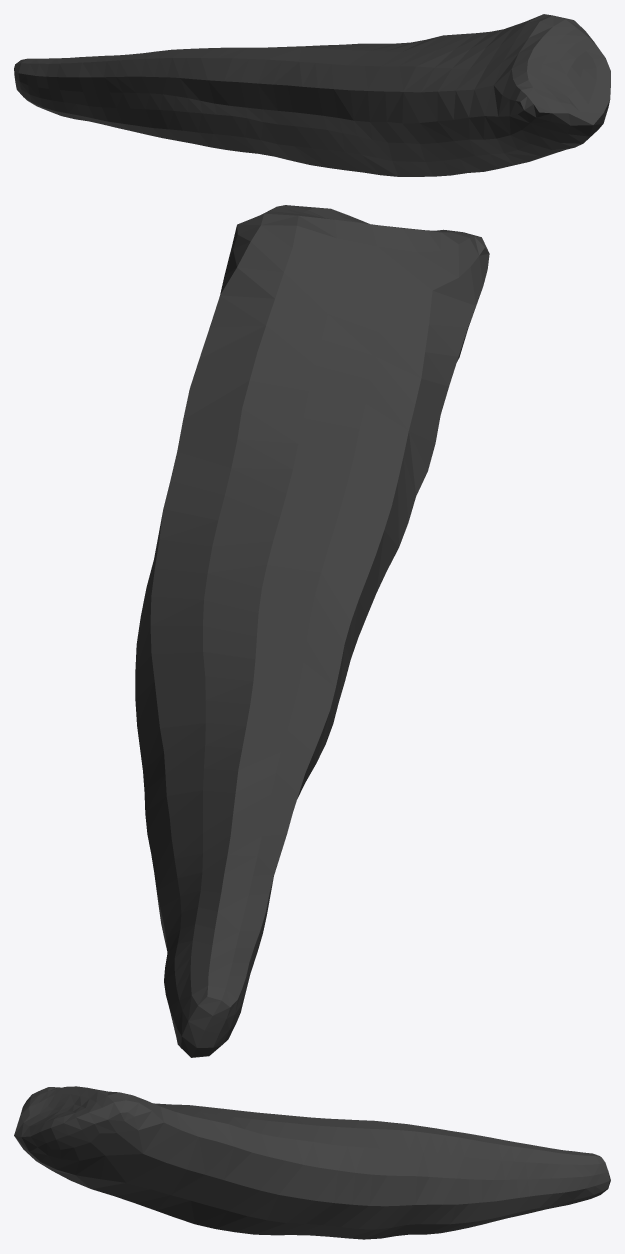
File: L_mand_I3.glb
The picture shows the model from 3 angles, top to bottom: view 1: azimuth 30°, elevation 25°; view 2: azimuth 150°, elevation 25°; view 3: azimuth 270°, elevation 25°; orthographic projection. The views are drawn at different scales.
Parts seen in each view (by area): view 1: L_mand_I3; view 2: L_mand_I3; view 3: L_mand_I3.
Part boxes in pixels (x1,y1,x2,y2): L_mand_I3: (14, 14, 610, 176); L_mand_I3: (135, 205, 489, 1057); L_mand_I3: (14, 1086, 610, 1239).
Size of the model in its own units: 0.1332 by 0.1057 by 0.2893.
1 material, 1 textured.
